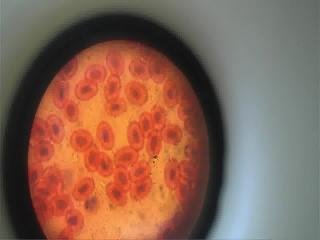cell: (163, 123, 187, 148), (106, 180, 126, 210), (102, 99, 136, 116), (96, 120, 116, 148), (126, 81, 150, 104), (163, 78, 180, 109), (125, 123, 144, 150), (129, 57, 151, 80), (106, 50, 126, 75), (164, 161, 180, 192), (75, 82, 101, 101), (47, 114, 66, 140), (44, 166, 66, 188), (70, 129, 93, 150), (66, 208, 89, 229), (72, 178, 96, 198), (130, 160, 154, 180), (105, 75, 124, 100), (57, 58, 83, 76), (116, 147, 142, 165), (113, 164, 131, 190), (36, 141, 60, 160), (54, 80, 72, 105), (30, 116, 50, 138), (65, 100, 82, 125), (86, 62, 108, 81), (152, 104, 168, 130), (52, 195, 72, 215), (97, 154, 115, 176), (148, 132, 163, 158), (35, 184, 55, 203), (134, 181, 154, 199), (85, 146, 98, 172), (139, 112, 153, 136)
